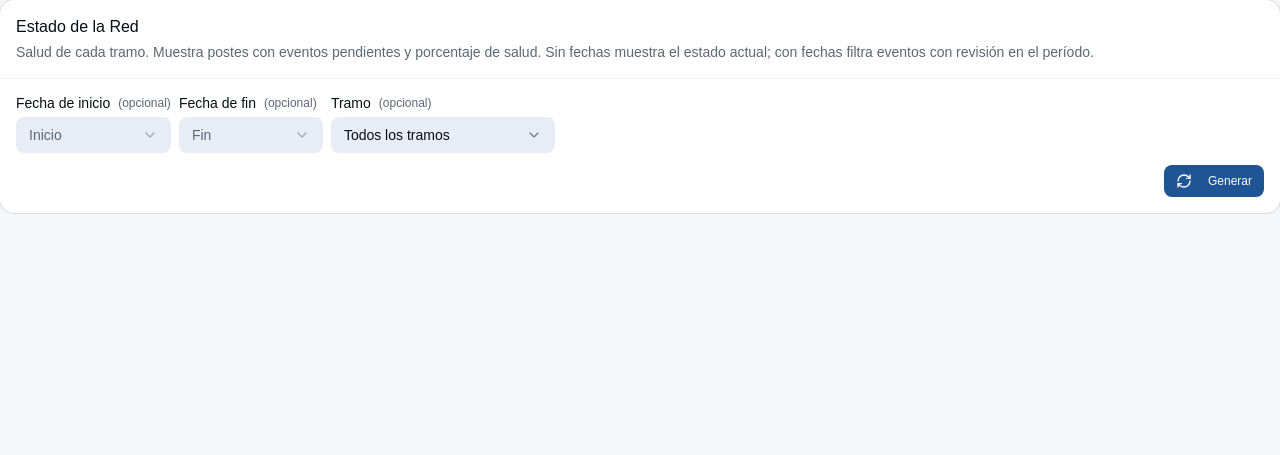
Scenario: when the server refuses › takes the previous table down with the failure
What coordinates should you click on to do the following:
click the button "Generar"
I would click on:
 (1214, 181)
Its box is x1=1164 y1=165 x2=1264 y2=197.
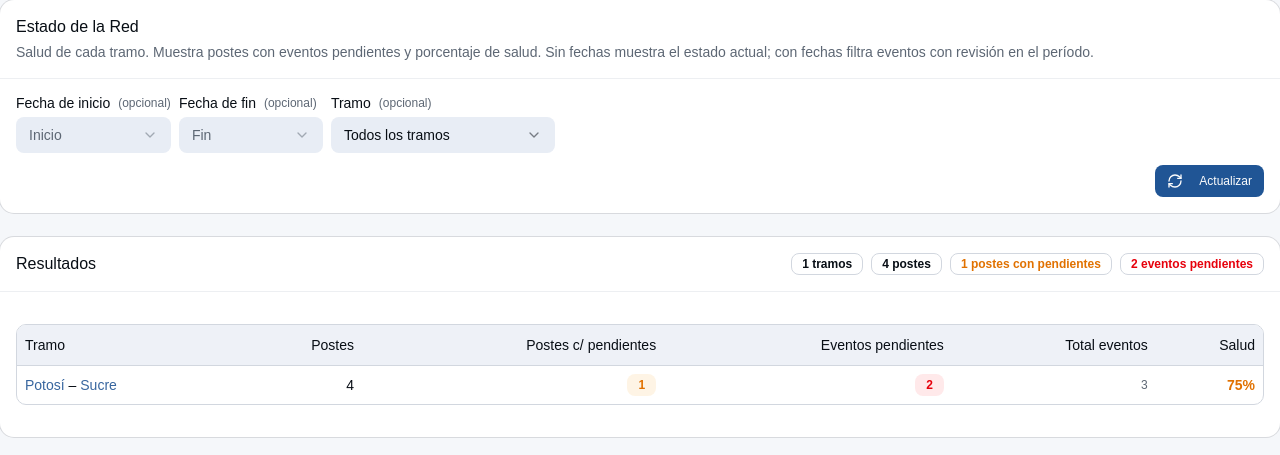
Check: the text "Resultados" is shown, box x1=16 y1=253 x2=96 y2=275
Check: the link "Potosí" is shown, box x1=25 y1=376 x2=65 y2=392
What coordinates should you click on to do the following:
click the button "Actualizar"
I would click on:
 (1210, 181)
Its box is x1=1155 y1=165 x2=1264 y2=197.
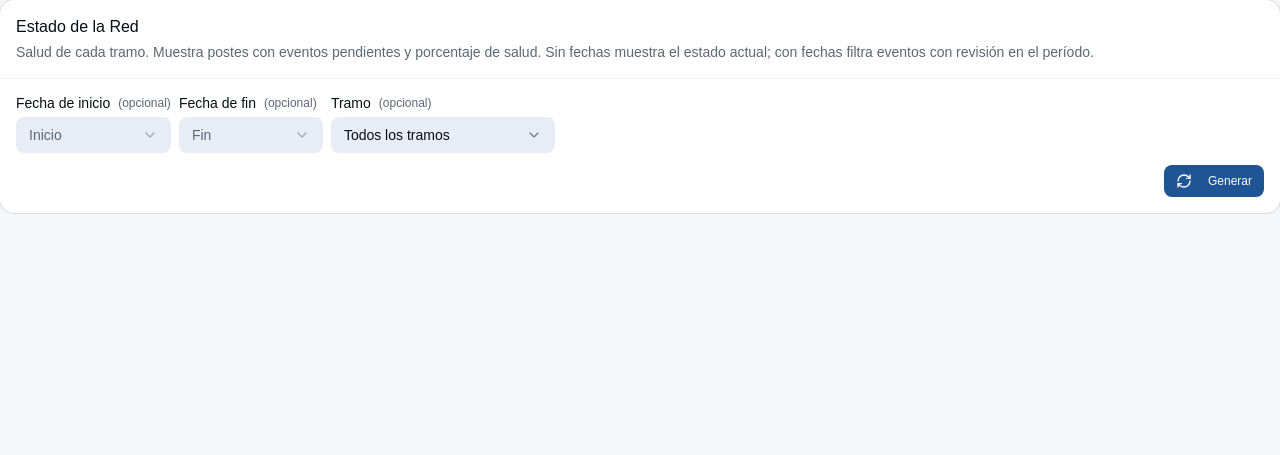
Check: the text "Resultados" is gone
Check: the link "Potosí" is gone
